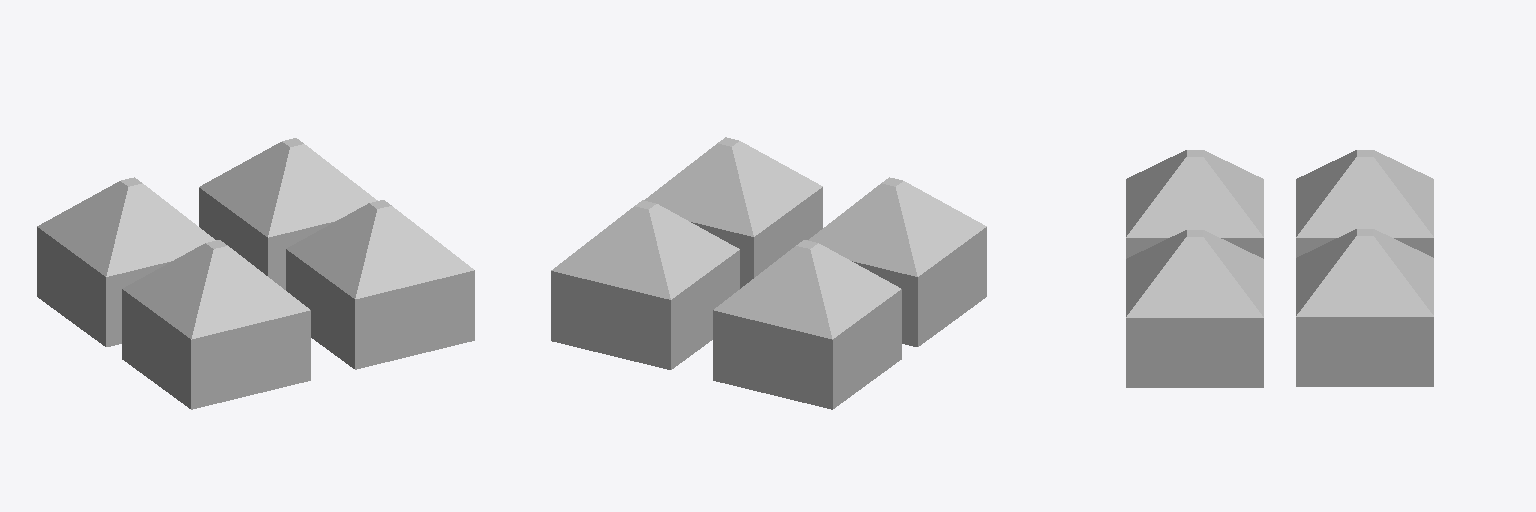
File: 4 House.obj
3 views of the same model, side by side, from view 1: azimuth 30°, elevation 25°; view 2: azimuth 150°, elevation 25°; view 3: azimuth 270°, elevation 25° (orthographic).
Visible parts, largest first — view 1: Cube, Cube.002, Cube.001, Cube.003; view 2: Cube.001, Cube.003, Cube, Cube.002; view 3: Cube.003, Cube.002, Cube, Cube.001.
Part boxes in pixels (left/top/right/bottom): Cube: left=122, top=240, right=310, bottom=409; Cube.002: left=286, top=200, right=474, bottom=369; Cube.001: left=37, top=177, right=215, bottom=346; Cube.003: left=199, top=138, right=377, bottom=289; Cube.001: left=713, top=240, right=901, bottom=409; Cube.003: left=551, top=200, right=739, bottom=369; Cube: left=808, top=177, right=986, bottom=346; Cube.002: left=644, top=137, right=822, bottom=288; Cube.003: left=1296, top=229, right=1433, bottom=386; Cube.002: left=1126, top=230, right=1263, bottom=387; Cube: left=1126, top=150, right=1263, bottom=258; Cube.001: left=1296, top=150, right=1433, bottom=257.
Size of the model in its own units: 4.73 by 2 by 4.46.